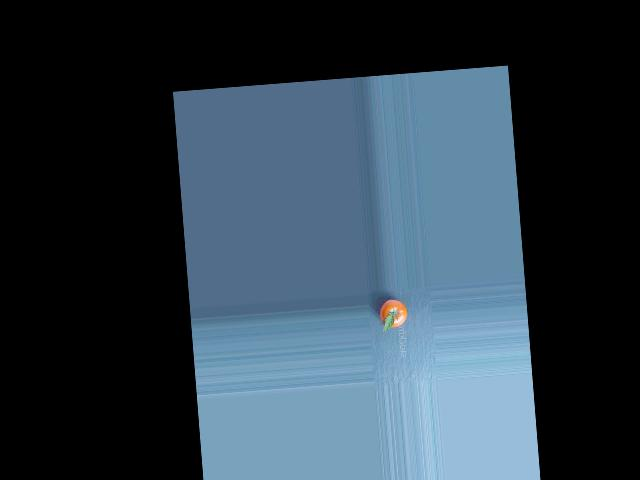tomato: (379, 298, 408, 328)
